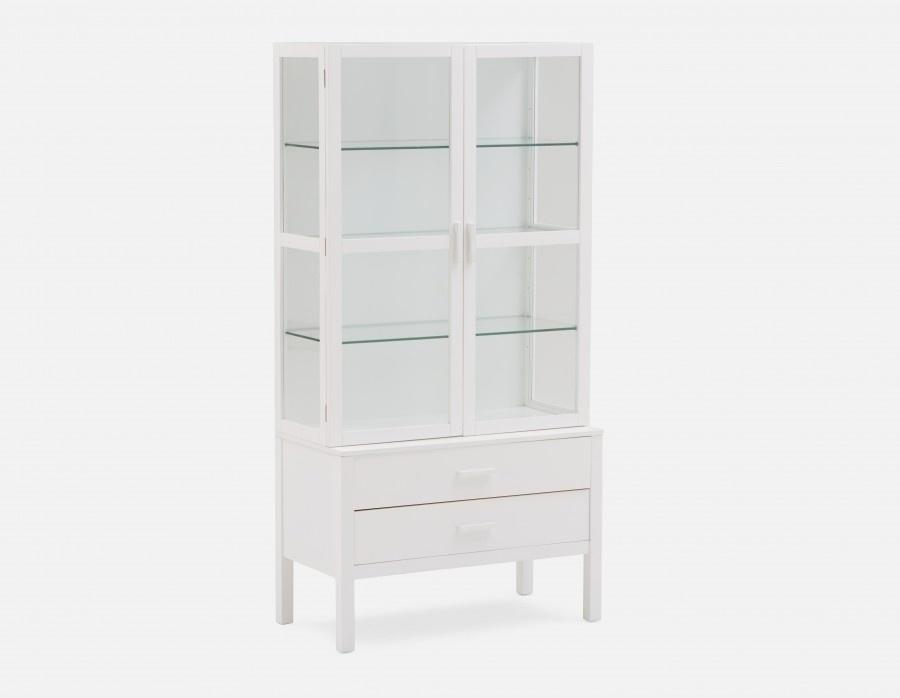cabinet_door: (325, 45, 464, 442), (464, 41, 590, 433), (355, 501, 587, 556), (352, 443, 590, 496)
handle: (456, 464, 498, 483), (462, 219, 476, 272), (450, 219, 463, 274), (459, 522, 499, 539)
